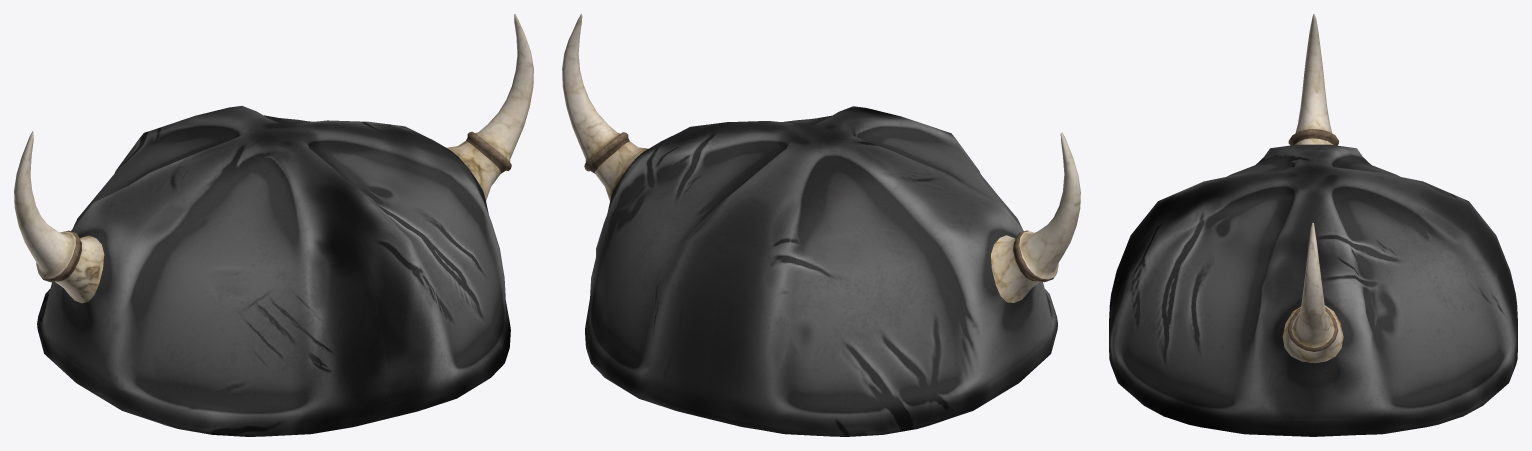
Rendered from viking_helmet.glb.
The picture shows the model from 3 angles, left to right: view 1: azimuth 30°, elevation 25°; view 2: azimuth 150°, elevation 25°; view 3: azimuth 270°, elevation 25°; orthographic projection. The views are drawn at different scales.
Parts seen in each view (by area): view 1: pCube3, pCube3_1, pCube3_2; view 2: pCube3, pCube3_1, pCube3_2; view 3: pCube3, pCube3_1, pCube3_2.
Boxes of the visible parts, x1,y1,x2,y2 form: pCube3: (37, 106, 510, 436); pCube3_1: (14, 14, 533, 303); pCube3_2: (39, 131, 511, 282); pCube3: (585, 106, 1057, 436); pCube3_1: (562, 14, 1080, 302); pCube3_2: (584, 132, 1056, 282); pCube3: (1109, 144, 1517, 436); pCube3_1: (1282, 14, 1343, 363); pCube3_2: (1288, 129, 1339, 351).
Bounding box in the file's own units: 2.6 × 1.28 × 2.01.
3 materials, 3 textured.
